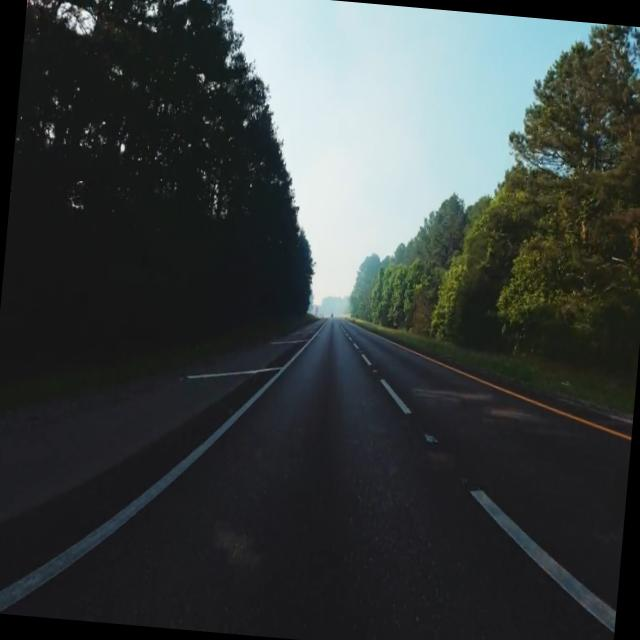asphalt: (2, 320, 630, 640), (0, 429, 194, 585)
grass: (350, 318, 636, 422)
